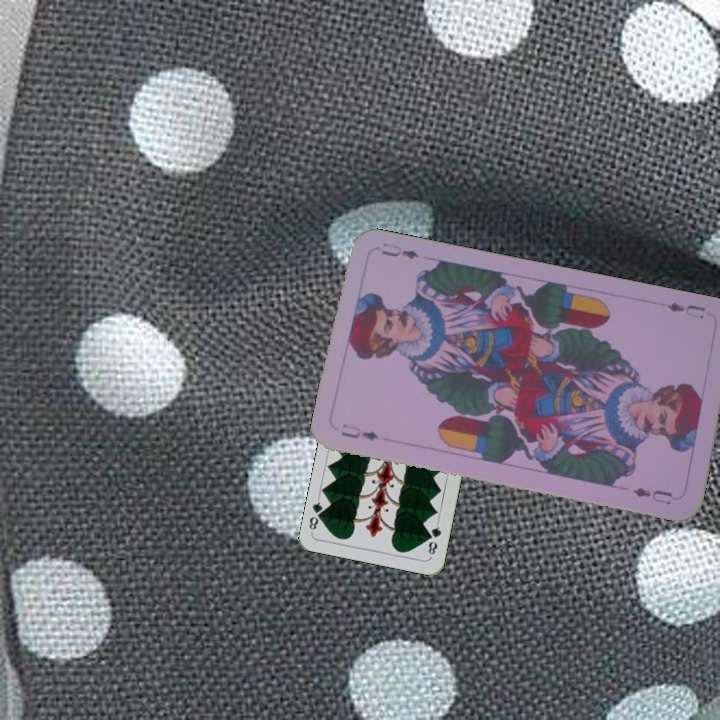EU: (663, 298, 708, 322), (337, 420, 382, 444)
G8: (424, 519, 444, 559)
